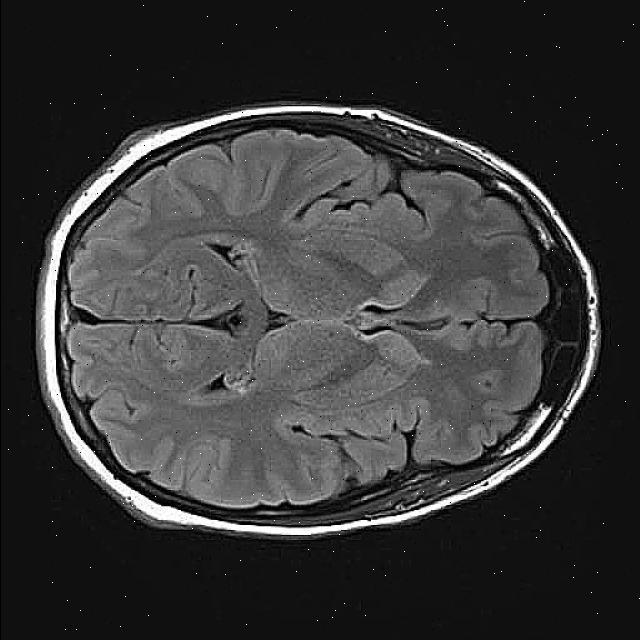No_Tumor: (37, 104, 600, 537)
